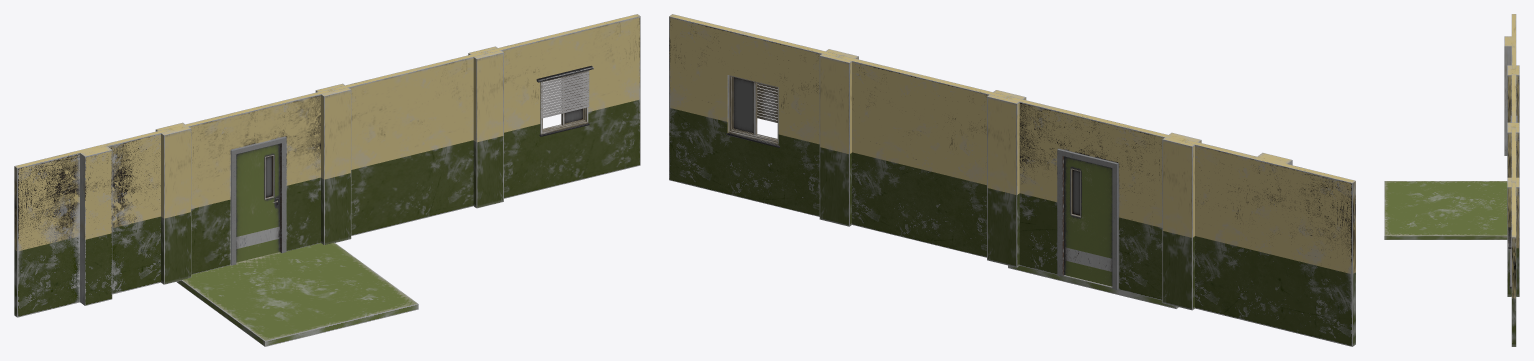
File: Modular Horror Wall & Door Pack.glb
3 renders of one model, left to right at view 1: azimuth 30°, elevation 25°; view 2: azimuth 150°, elevation 25°; view 3: azimuth 270°, elevation 25°, orthographic. The views are drawn at different scales.
Parts seen in each view (by area): view 1: SM_Pilaster_01, SM_WallPlain_01, SM_WallPlain_02, SM_FloorWood_01, SM_WallDoor_01, SM_Pillar_01, SM_Pillar_02, SM_Pillar_03, SM_Door_01, SM_RollerBlind_01, SM_DoorFrame_01, SM_WindowFrame_01; view 2: SM_Pilaster_01, SM_WallPlain_01, SM_WallPlain_02, SM_WallDoor_01, SM_Pillar_01, SM_Pillar_02, SM_Pillar_03, SM_Door_01, SM_DoorFrame_01, SM_WindowSash_01, SM_FloorWood_01, SM_WindowFrame_01 (+1 smaller); view 3: SM_FloorWood_01, SM_WallPlain_02, SM_Pillar_03, SM_Pilaster_01, SM_Pillar_01, SM_Pillar_02, SM_WallPlain_01, SM_WallDoor_01.
Boxes of the visible parts, x1,y1,x2,y2 form: SM_Pilaster_01: (14,128,170,317); SM_WallPlain_01: (331,51,486,235); SM_WallPlain_02: (484,14,640,198); SM_FloorWood_01: (176,242,418,346); SM_WallDoor_01: (183,89,331,274); SM_Pillar_01: (155,122,191,284); SM_Pillar_02: (315,83,351,244); SM_Pillar_03: (468,46,503,208); SM_Door_01: (236,144,280,262); SM_RollerBlind_01: (540,70,589,118); SM_DoorFrame_01: (231,137,286,265); SM_WindowFrame_01: (540,71,588,134); SM_Pilaster_01: (1185,139,1355,346); SM_WallPlain_01: (838,55,1008,257); SM_WallPlain_02: (669,14,840,216); SM_WallDoor_01: (1008,96,1170,300); SM_Pillar_01: (1162,132,1201,310); SM_Pillar_02: (987,90,1026,267); SM_Pillar_03: (819,49,858,226); SM_Door_01: (1064,156,1112,286); SM_DoorFrame_01: (1057,149,1118,289); SM_WindowSash_01: (732,77,753,134); SM_FloorWood_01: (1008,265,1178,308); SM_WindowFrame_01: (728,75,778,144); SM_FloorWood_01: (1384,181,1507,239); SM_WallPlain_02: (1511,182,1516,346); SM_Pillar_03: (1507,177,1519,296); SM_Pilaster_01: (1504,14,1516,155); SM_Pillar_01: (1507,65,1519,122); SM_Pillar_02: (1507,122,1519,177); SM_WallPlain_01: (1511,127,1516,182); SM_WallDoor_01: (1511,74,1516,122).
Size of the model in its own units: 16.24 by 3.85 by 4.16.
23 materials, 22 textured.
